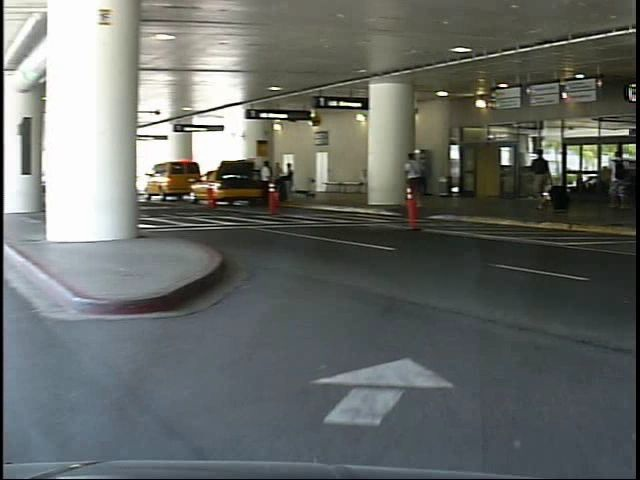person: (531, 143, 559, 219), (406, 148, 432, 215)
